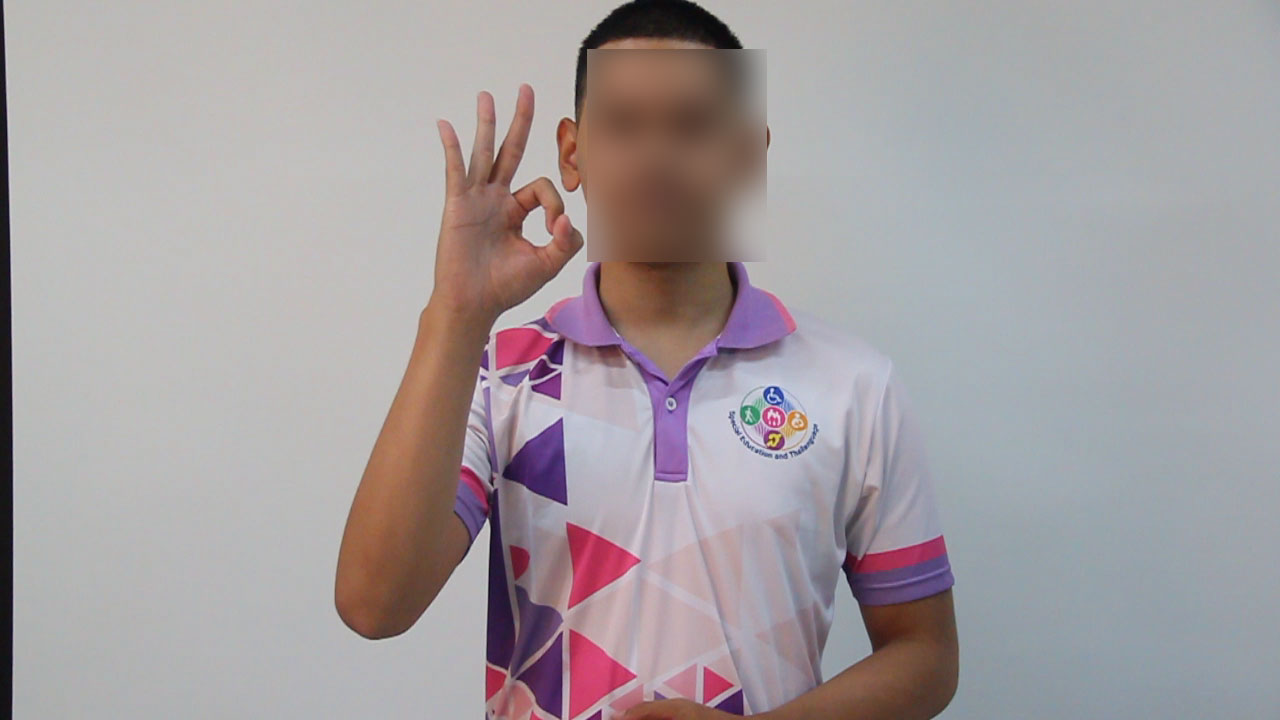for: (399, 73, 592, 341)
